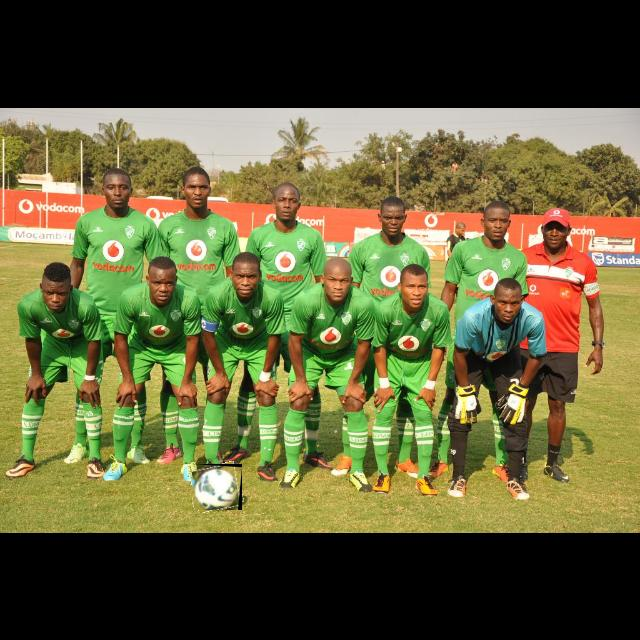Football: (192, 464, 242, 510)
